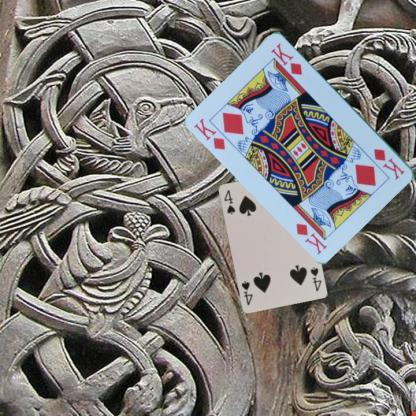4s: (222, 187, 236, 216), (308, 264, 322, 292)
Kd: (191, 116, 227, 152), (372, 146, 406, 182)
